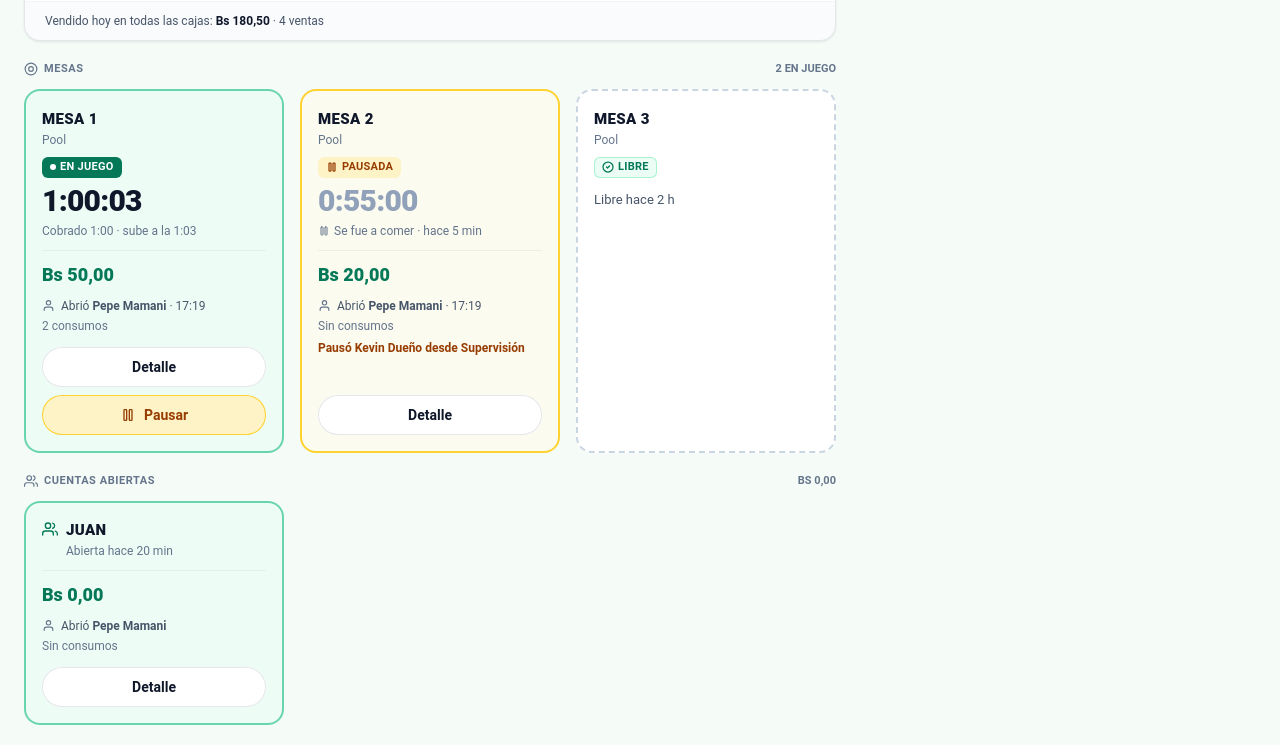
Billar: la supervisión del administrador › si el servidor rechaza la pausa, el motivo queda a la vista y el diálogo sigue abierto
(page scrolled)
What coordinates should you click on to do the following:
click the button with aria-label "Pausar Mesa 1"
I would click on:
 (154, 414)
Its box is left=42, top=394, right=266, bottom=434.
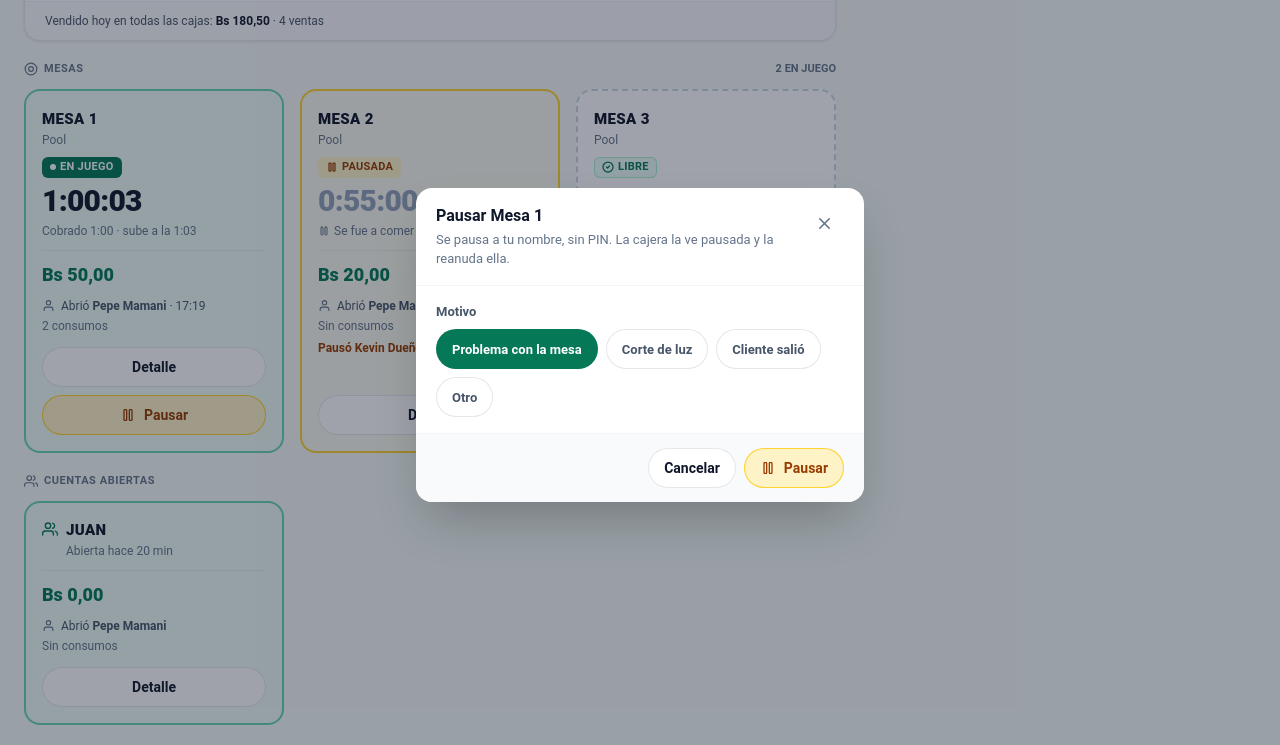
What coordinates should you click on to do the following:
click the button "Pausar"
I would click on:
 (794, 468)
Its box is left=744, top=448, right=844, bottom=488.
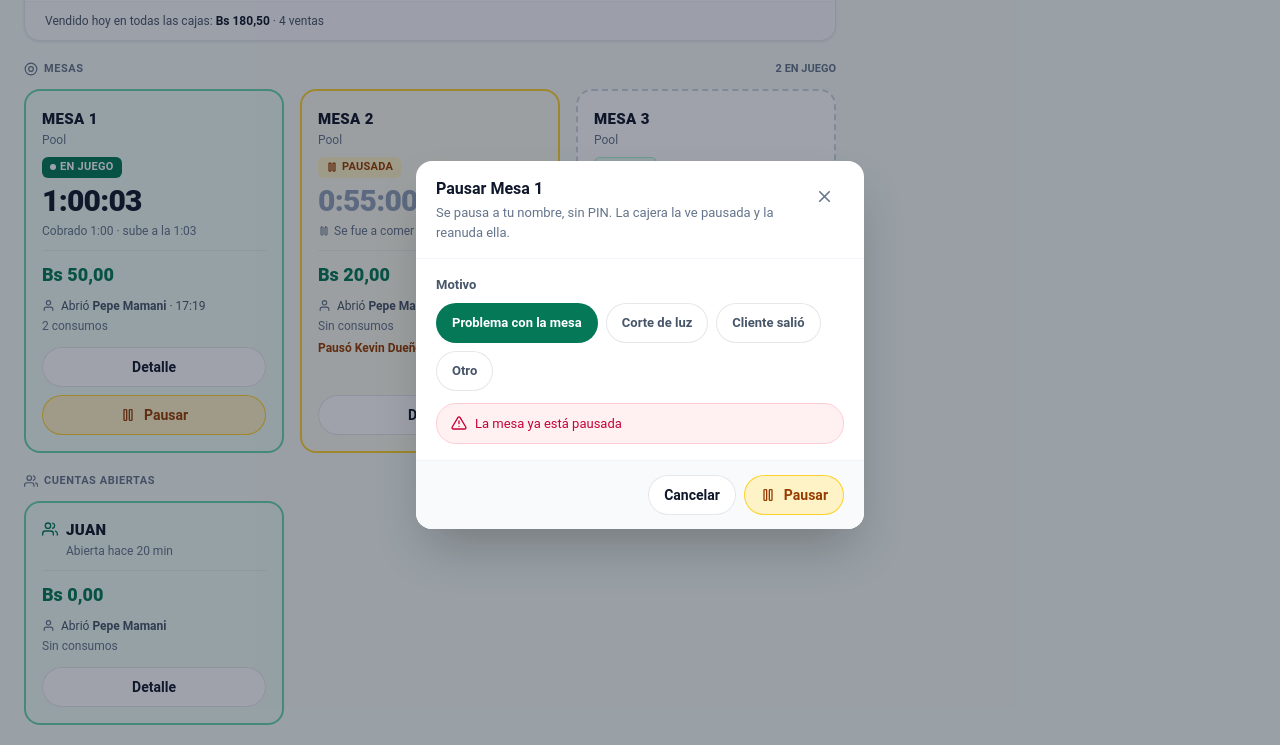
Expected: the message reads "La mesa ya está pausada", left=475, top=416, right=622, bottom=430
